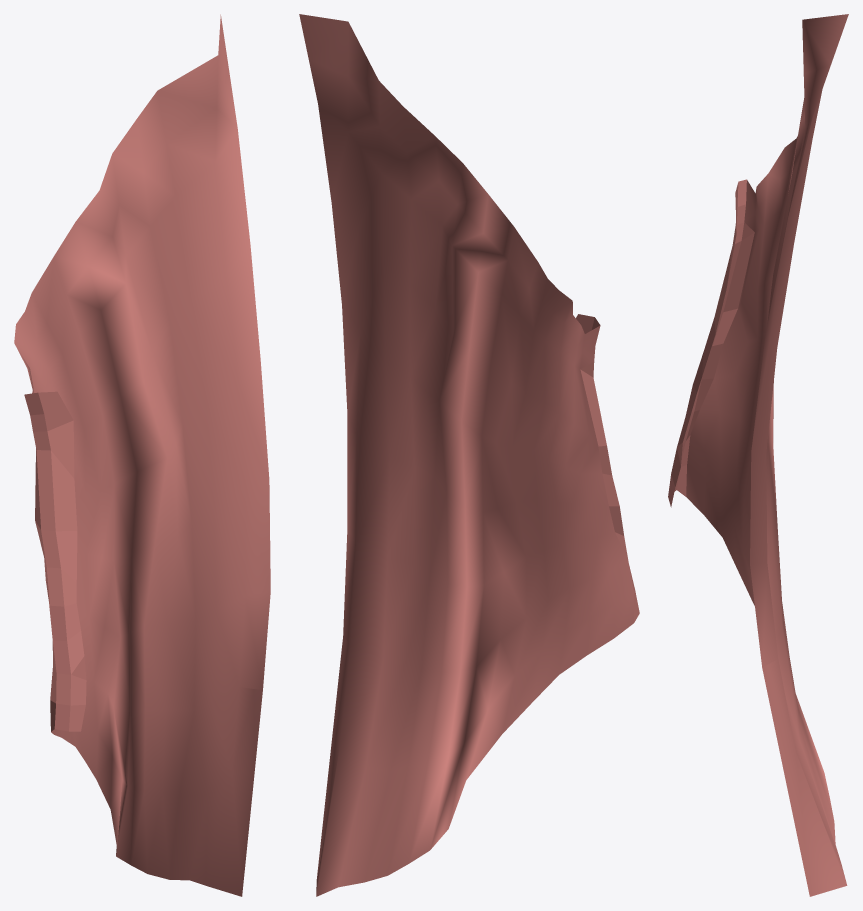
3 views of the same model, side by side, from view 1: azimuth 30°, elevation 25°; view 2: azimuth 150°, elevation 25°; view 3: azimuth 270°, elevation 25° (orthographic).
Visible parts, largest first — view 1: ZA_e240c70c99866016; view 2: ZA_e240c70c99866016; view 3: ZA_e240c70c99866016.
Part boxes in pixels (box(x1,y1,x2,y2)): ZA_e240c70c99866016: box(14, 14, 270, 896); ZA_e240c70c99866016: box(299, 14, 639, 896); ZA_e240c70c99866016: box(668, 14, 848, 896).
Size of the model in its own units: 0.0718 by 0.2357 by 0.0438.
